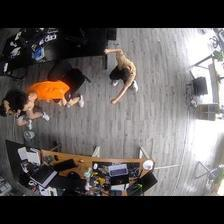fall: (104, 47, 141, 104)
normal: (19, 82, 86, 111)
